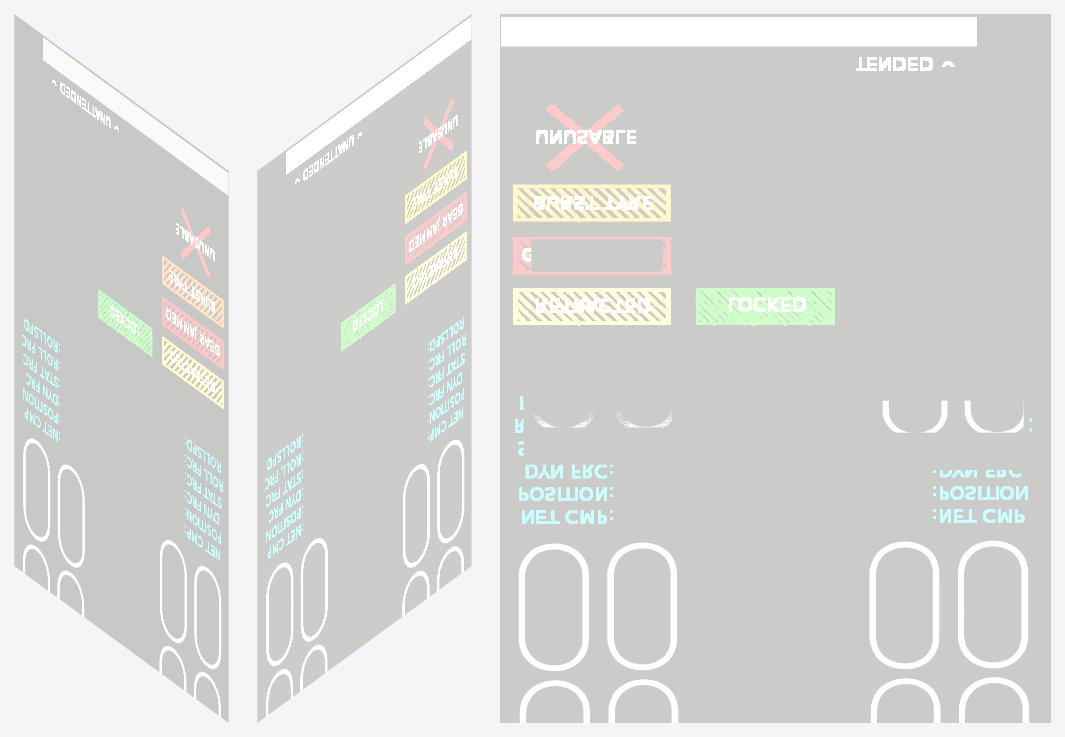
File: gear.glb
The picture shows the model from 3 angles, left to right: view 1: azimuth 30°, elevation 25°; view 2: azimuth 150°, elevation 25°; view 3: azimuth 270°, elevation 25°; orthographic projection. The views are drawn at different scales.
Parts seen in each view (by area): view 1: gear; view 2: gear; view 3: gear, gear_0_break, gear_1_break, gear_1_burst, gear_2_stuck, gear_2_retract, gear_2_burst, gear_2_down, gear_1_down, gear_0_down, gear_0_burst, gear_0_stuck (+3 smaller).
Boxes of the visible parts, x1,y1,x2,y2 form: gear: (14, 14, 228, 722); gear: (257, 14, 471, 722); gear: (500, 14, 1050, 722); gear_0_break: (707, 54, 855, 120); gear_1_break: (523, 375, 673, 446); gear_1_burst: (523, 432, 672, 464); gear_2_stuck: (875, 363, 1023, 395); gear_2_retract: (875, 400, 1023, 432); gear_2_burst: (875, 438, 1023, 469); gear_2_down: (884, 241, 1015, 273); gear_1_down: (531, 239, 662, 271); gear_0_down: (710, 166, 841, 197); gear_0_burst: (703, 107, 851, 139); gear_0_stuck: (701, 71, 850, 103).
Size of the model in its own units: 0.000839 by 0.2151 by 0.1514.
1 material, 1 textured.
